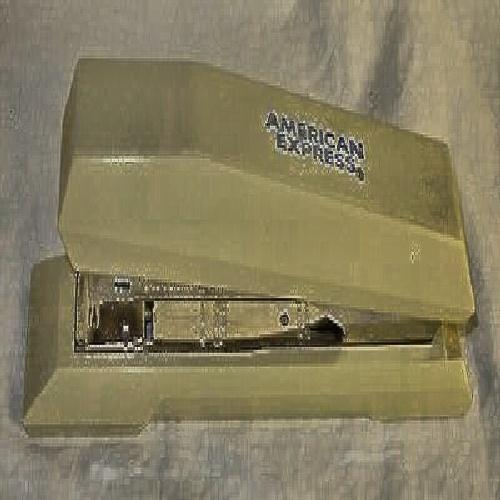stapler: (47, 49, 472, 452)
